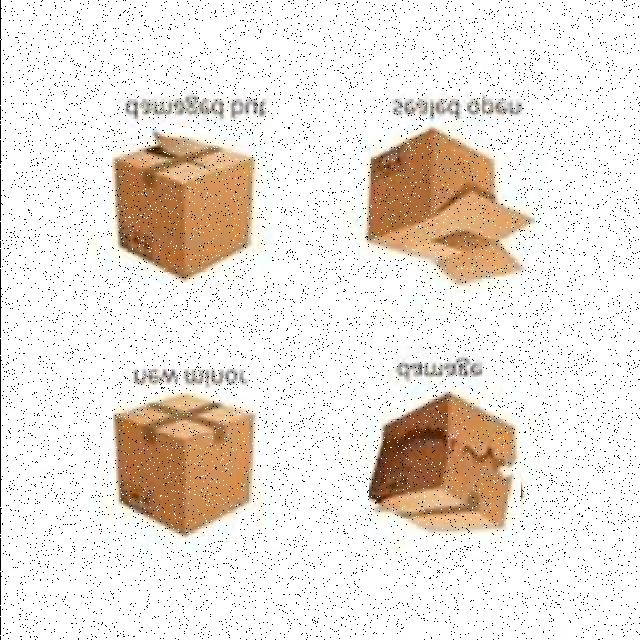defect: (357, 126, 534, 294), (368, 386, 520, 537), (111, 128, 257, 283)
normal: (112, 389, 257, 543)
